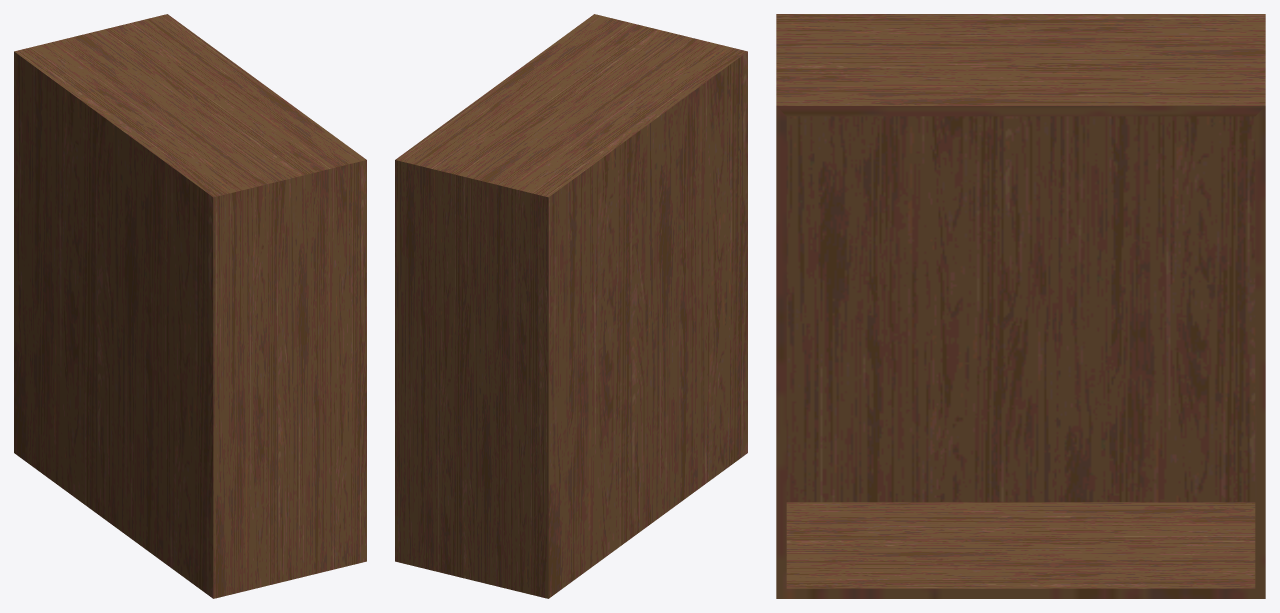
File: open-wardobe.glb
3 renders of one model, left to right at view 1: azimuth 30°, elevation 25°; view 2: azimuth 150°, elevation 25°; view 3: azimuth 270°, elevation 25°, orthographic. The views are drawn at different scales.
Parts seen in each view (by area): view 1: Open_wardobe; view 2: Open_wardobe; view 3: Open_wardobe.
Part boxes in pixels (x1,y1,x2,y2): Open_wardobe: [14, 14, 366, 598]; Open_wardobe: [395, 14, 747, 598]; Open_wardobe: [776, 14, 1265, 598].
Size of the model in its own units: 0.8 by 2 by 1.8.
1 material, 1 textured.
